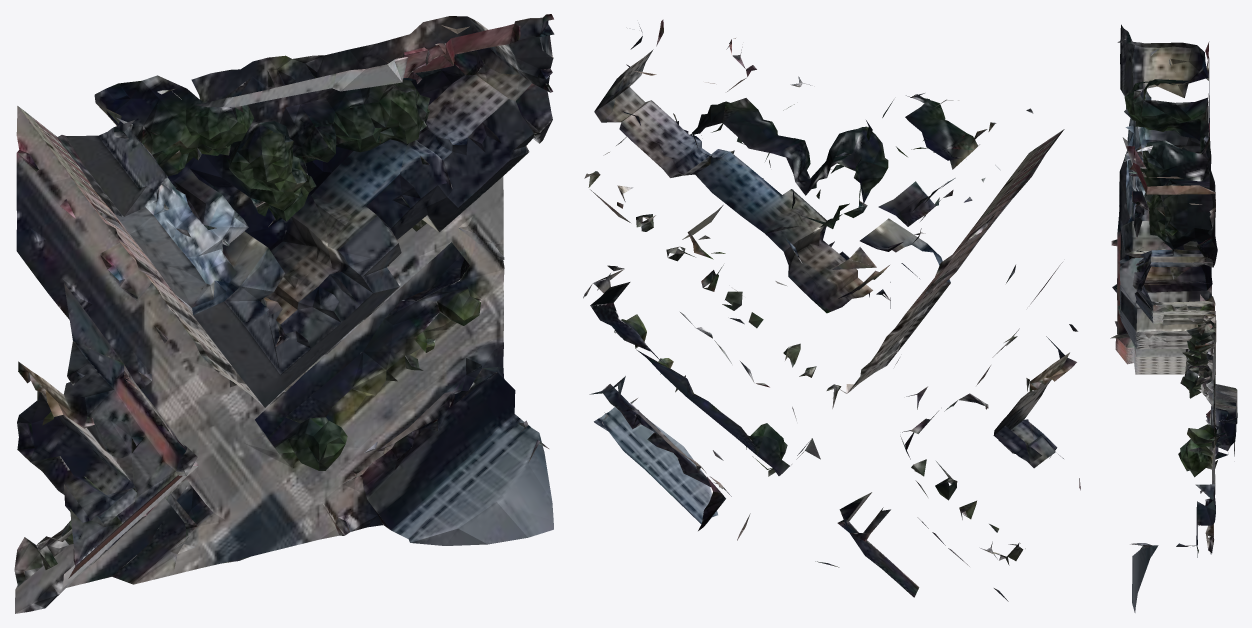
File: Tile_+031_+021_L17_0000.glb
3 views of the same model, side by side, from view 1: azimuth 30°, elevation 25°; view 2: azimuth 150°, elevation 25°; view 3: azimuth 270°, elevation 25° (orthographic). The views are drawn at different scales.
Size of the model in its own units: 126 by 126 by 35.8.
Materials: 1 (1 with a texture image).
